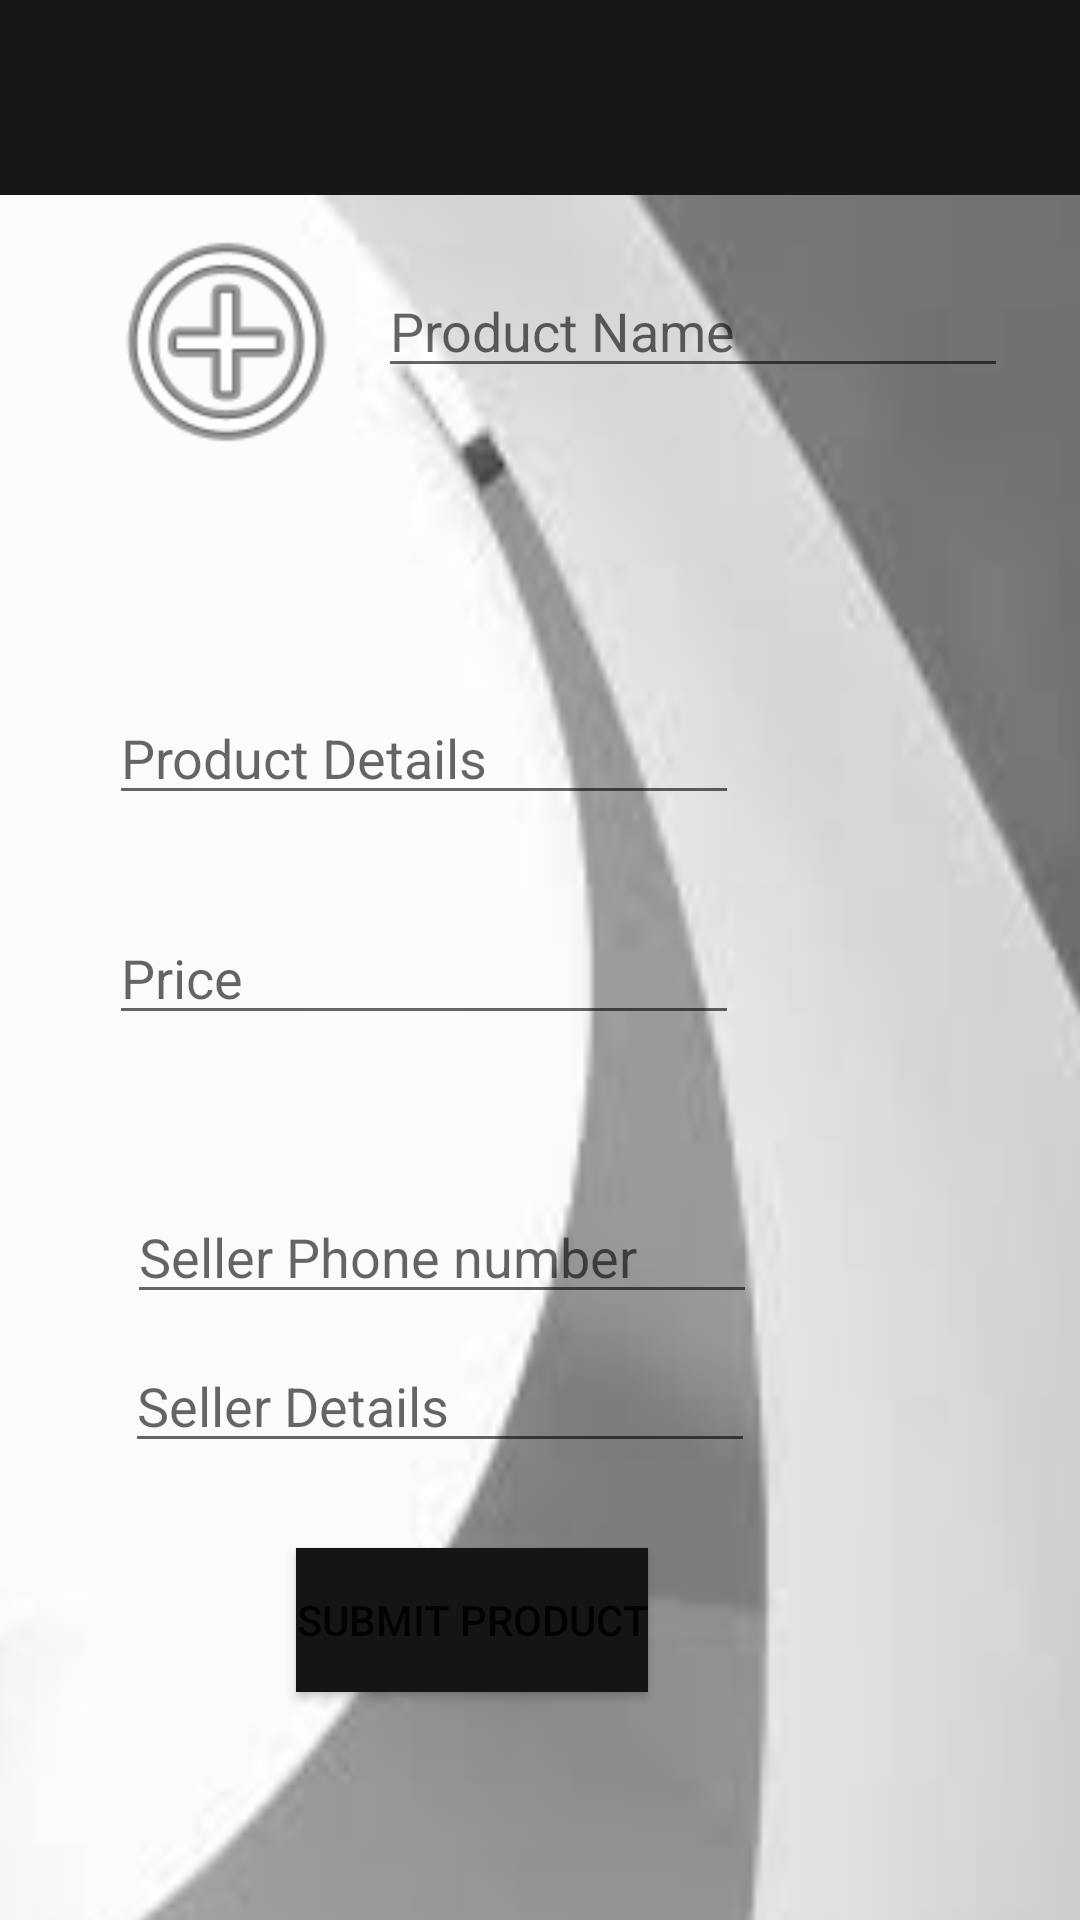

Icon bounding boxes for this 1080x1920 phone screenshot, format (x1, y1, x2, y2):
add: (127, 243, 326, 441)
